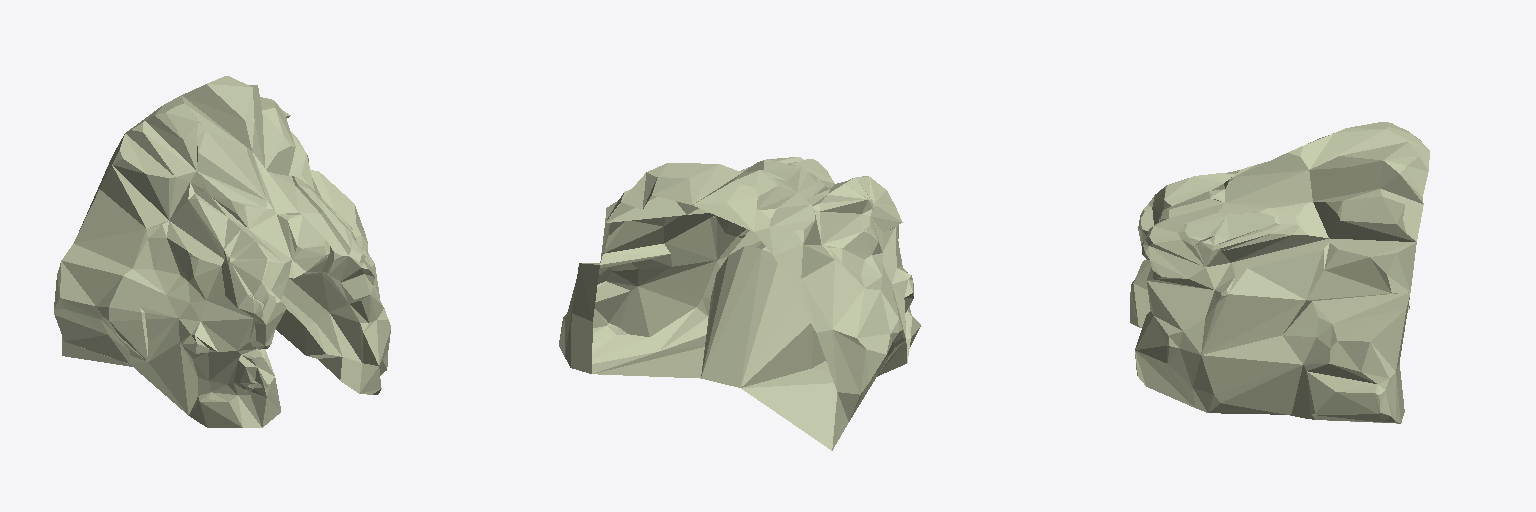
The model's file is Volcano_Flamer.obj.
3 views of the same model, side by side, from view 1: azimuth 30°, elevation 25°; view 2: azimuth 150°, elevation 25°; view 3: azimuth 270°, elevation 25° (orthographic).
Visible parts, largest first — view 1: Volcano_Flamer; view 2: Volcano_Flamer; view 3: Volcano_Flamer.
Part boxes in pixels (x1,y1,x2,y2): Volcano_Flamer: (54,76,390,427); Volcano_Flamer: (559,157,920,450); Volcano_Flamer: (1130,122,1429,423).
Size of the model in its own units: 123 by 90.61 by 102.